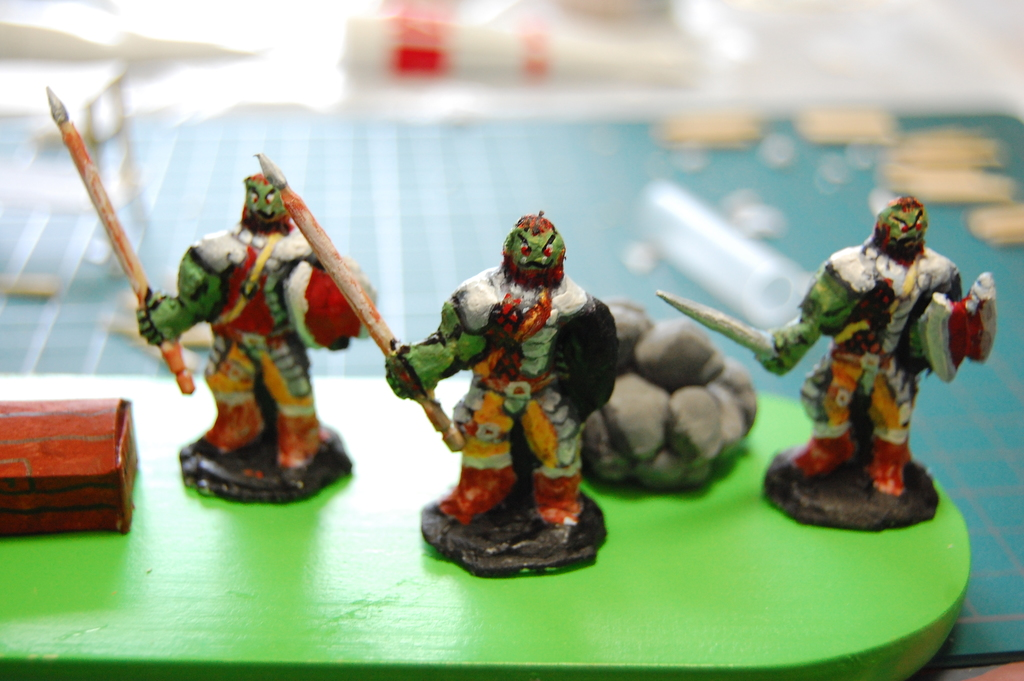Person: (384, 209, 620, 525), (753, 193, 997, 498), (135, 172, 379, 470)
